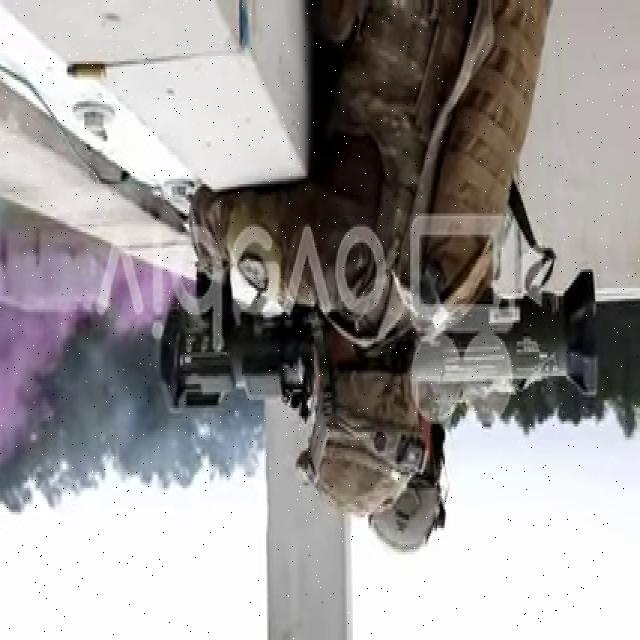bazooka: (157, 258, 605, 423)
